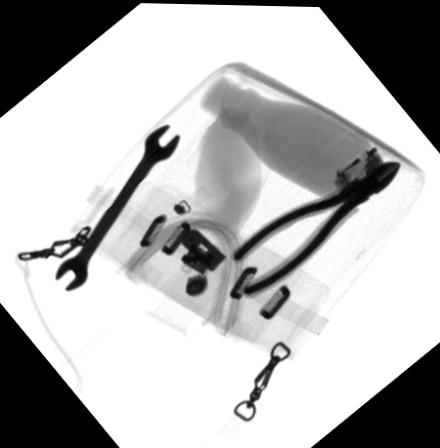Pliers: (229, 160, 397, 297)
Wrench: (53, 123, 180, 292)
